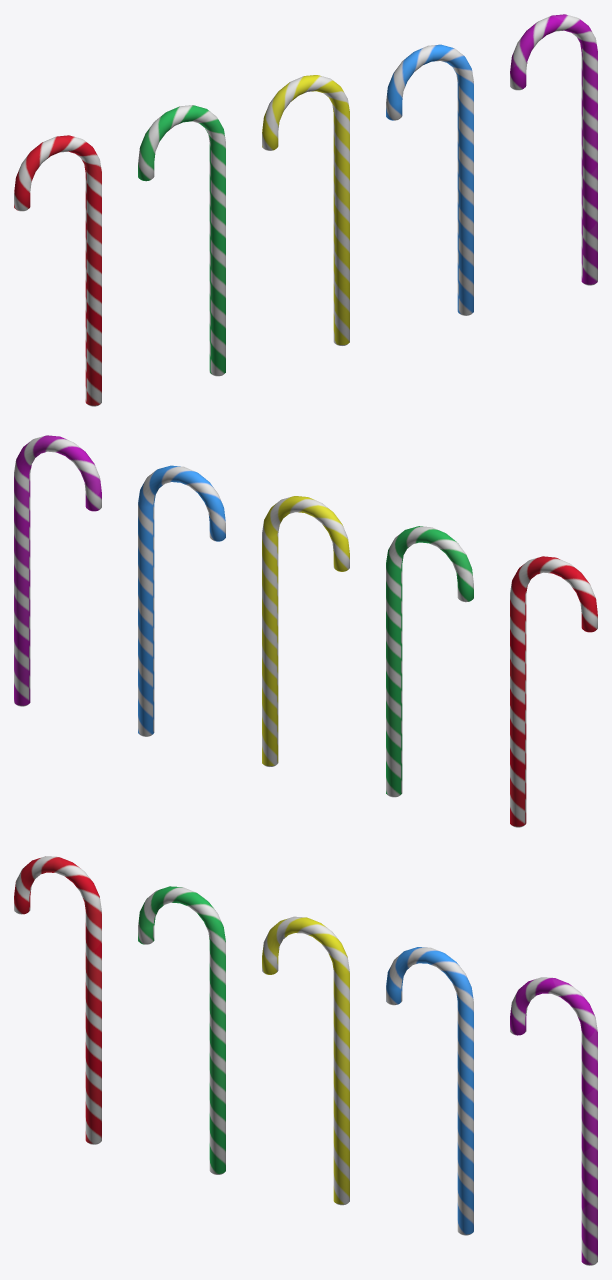
File: Candy_Cane.glb
The picture shows the model from 3 angles, top to bottom: view 1: azimuth 30°, elevation 25°; view 2: azimuth 150°, elevation 25°; view 3: azimuth 330°, elevation 25°; orthographic projection.
Parts seen in each view (by area): view 1: Pink, Red, Blue, Green, Yellow; view 2: Pink, Red, Blue, Green, Yellow; view 3: Pink, Blue, Green, Red, Yellow.
Part boxes in pixels (left/top/right/bottom): Pink: left=510, top=14, right=597, bottom=285; Red: left=14, top=135, right=101, bottom=406; Blue: left=386, top=44, right=473, bottom=315; Green: left=138, top=105, right=225, bottom=376; Yellow: left=262, top=75, right=349, bottom=345; Pink: left=14, top=435, right=101, bottom=706; Red: left=510, top=556, right=597, bottom=827; Blue: left=138, top=465, right=225, bottom=736; Green: left=386, top=526, right=473, bottom=797; Yellow: left=262, top=496, right=349, bottom=766; Pink: left=510, top=977, right=597, bottom=1265; Blue: left=386, top=947, right=473, bottom=1235; Green: left=138, top=886, right=225, bottom=1174; Red: left=14, top=856, right=101, bottom=1144; Yellow: left=262, top=916, right=349, bottom=1205.
Bounding box in the file's own units: 2.88 × 1.31 × 0.0706.
1 material, 1 textured.
